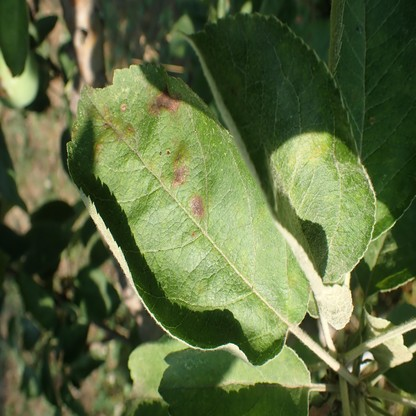scab: (93, 102, 134, 154), (145, 86, 182, 120), (173, 140, 192, 187), (307, 143, 328, 165), (188, 193, 204, 217), (283, 270, 296, 288), (119, 104, 127, 112)
